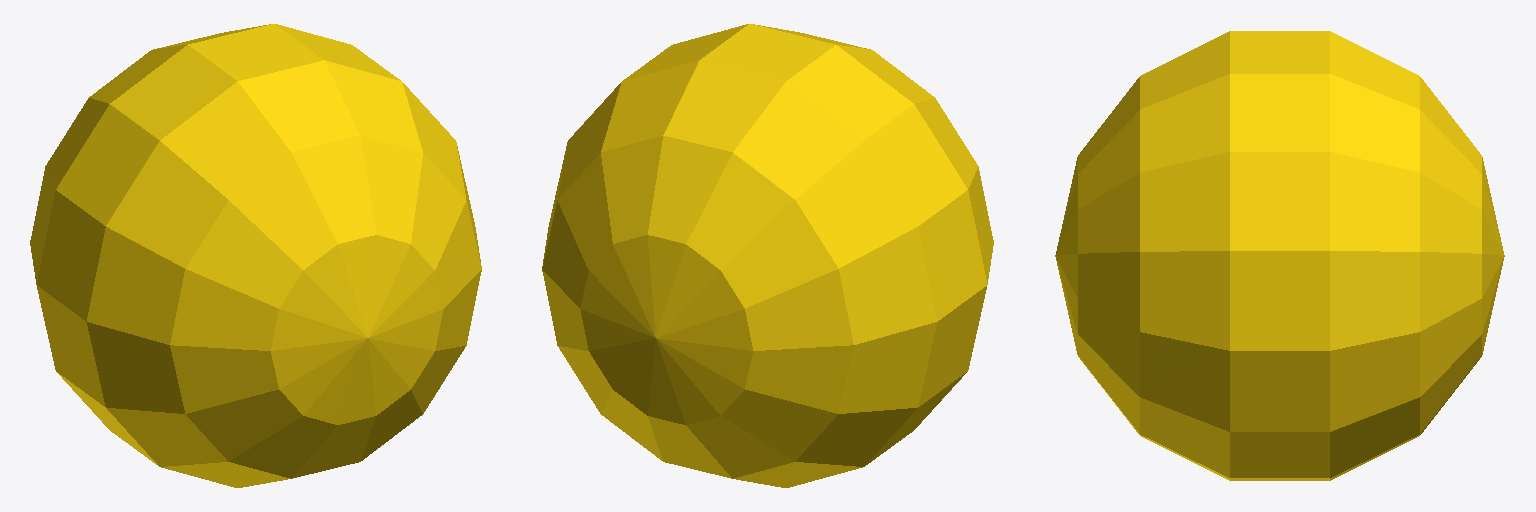
Rendered from sphere_yellow.obj.
3 views of the same model, side by side, from view 1: azimuth 30°, elevation 25°; view 2: azimuth 150°, elevation 25°; view 3: azimuth 270°, elevation 25° (orthographic).
Visible parts, largest first — view 1: obj_0; view 2: obj_0; view 3: obj_0.
Boxes of the visible parts, box(x1,y1,x2,y2) form: obj_0: box(30, 24, 481, 487); obj_0: box(542, 24, 993, 487); obj_0: box(1055, 31, 1504, 480).
Size of the model in its own units: 2 by 2 by 2.